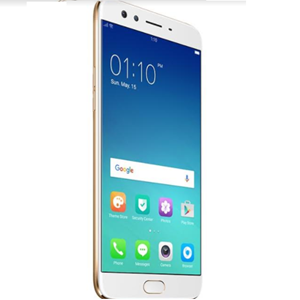Handphone: (88, 1, 215, 300)
